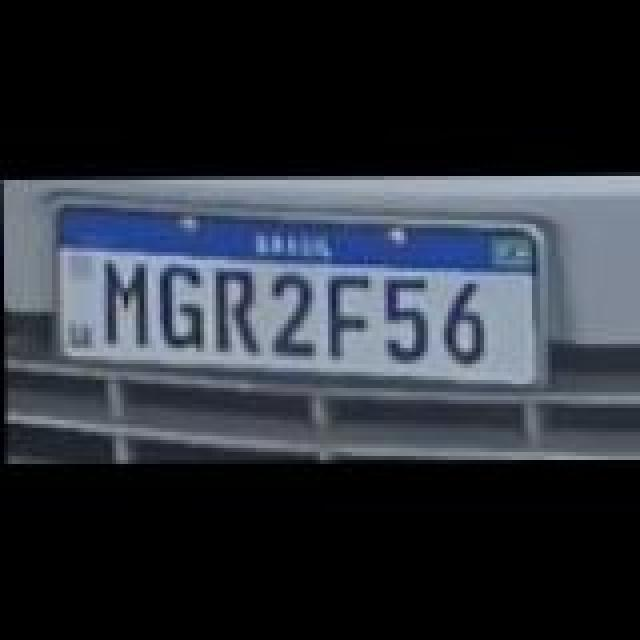2: (272, 272, 320, 356)
5: (390, 276, 434, 360)
6: (444, 280, 484, 364)
F: (330, 272, 374, 356)
G: (160, 260, 208, 344)
M: (106, 256, 150, 344)
R: (218, 268, 262, 352)
